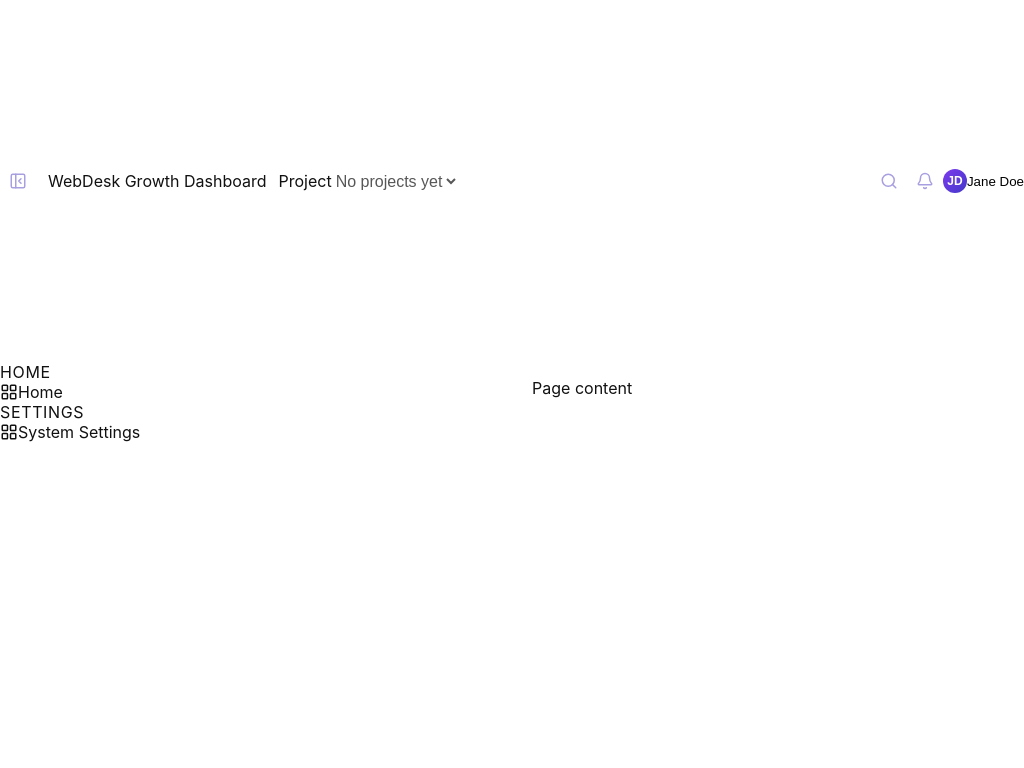
AppShell › notifications drawer › opens to an honest not-configured state, not a fake inbox
The width and height of the screenshot is (1024, 768).
Click the button named "Notifications".
click(925, 181)  # box [907,163,943,199]
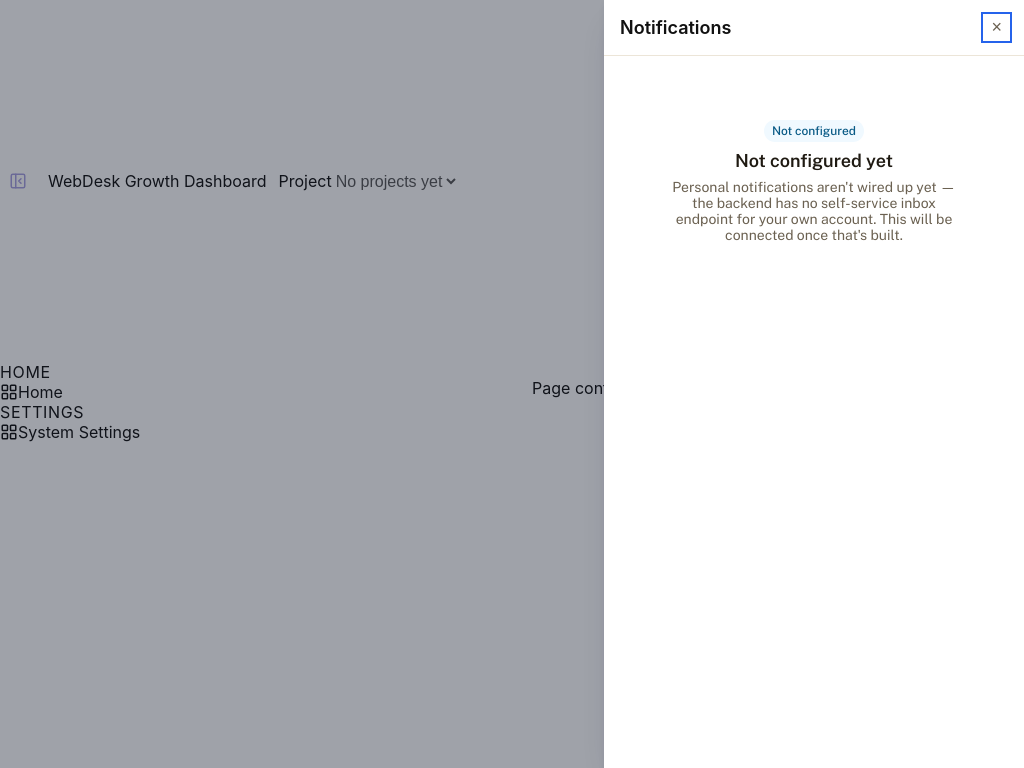
Now the dialog "Notifications" is shown, box [604,0,1023,767]
Now the text "Personal notifications aren't wired up yet" is shown, box [672,179,956,243]
